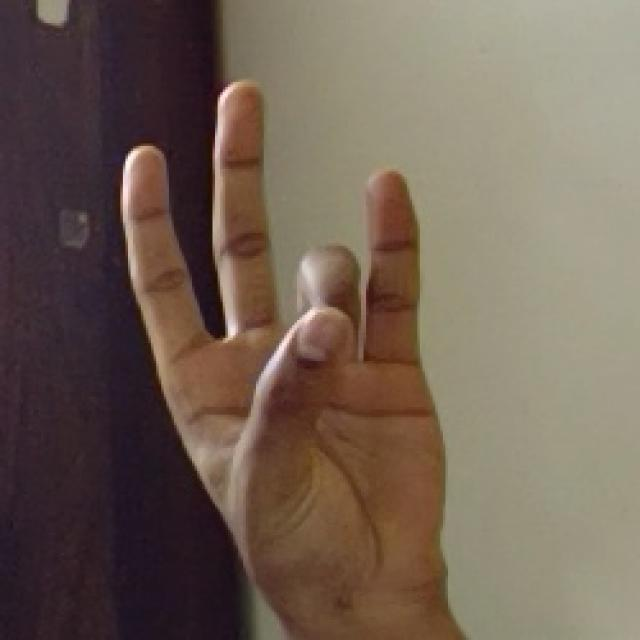Numeric-7: (117, 71, 454, 608)
